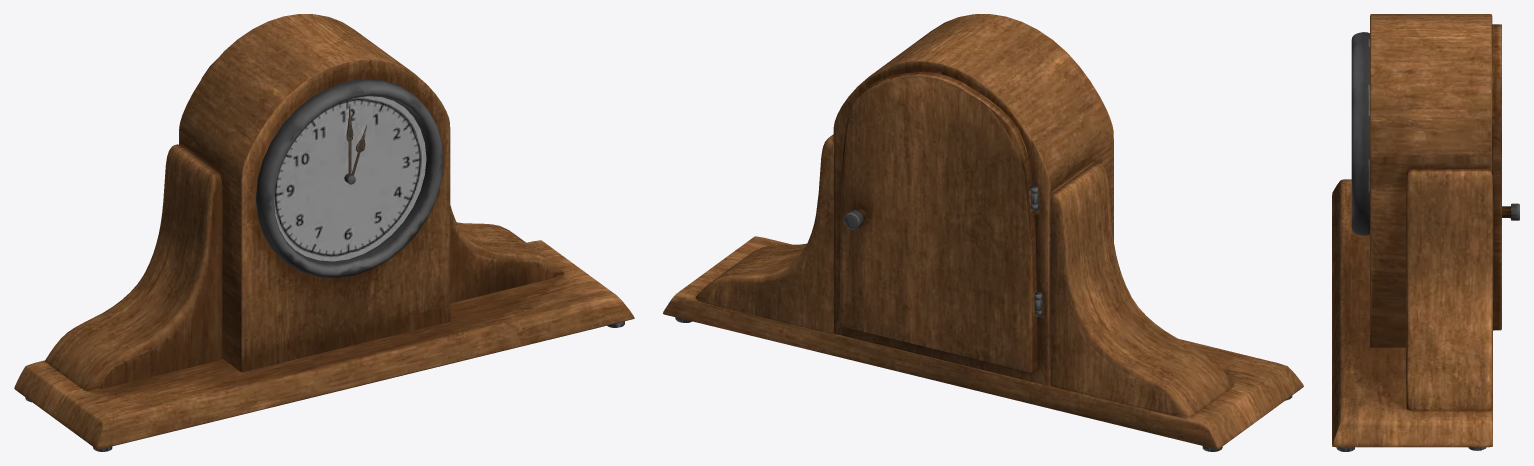
Rendered from clock_small.glb.
The picture shows the model from 3 angles, left to right: view 1: azimuth 30°, elevation 25°; view 2: azimuth 150°, elevation 25°; view 3: azimuth 270°, elevation 25°; orthographic projection. The views are drawn at different scales.
Visible parts, largest first — view 1: clockBody_geo; view 2: clockBody_geo; view 3: clockBody_geo.
Part boxes in pixels (left/top/right/bottom): clockBody_geo: left=14, top=14, right=634, bottom=451; clockBody_geo: left=663, top=14, right=1303, bottom=451; clockBody_geo: left=1332, top=14, right=1519, bottom=451.
Size of the model in its own units: 1.37 by 0.7658 by 0.4295.
1 material, 1 textured.
